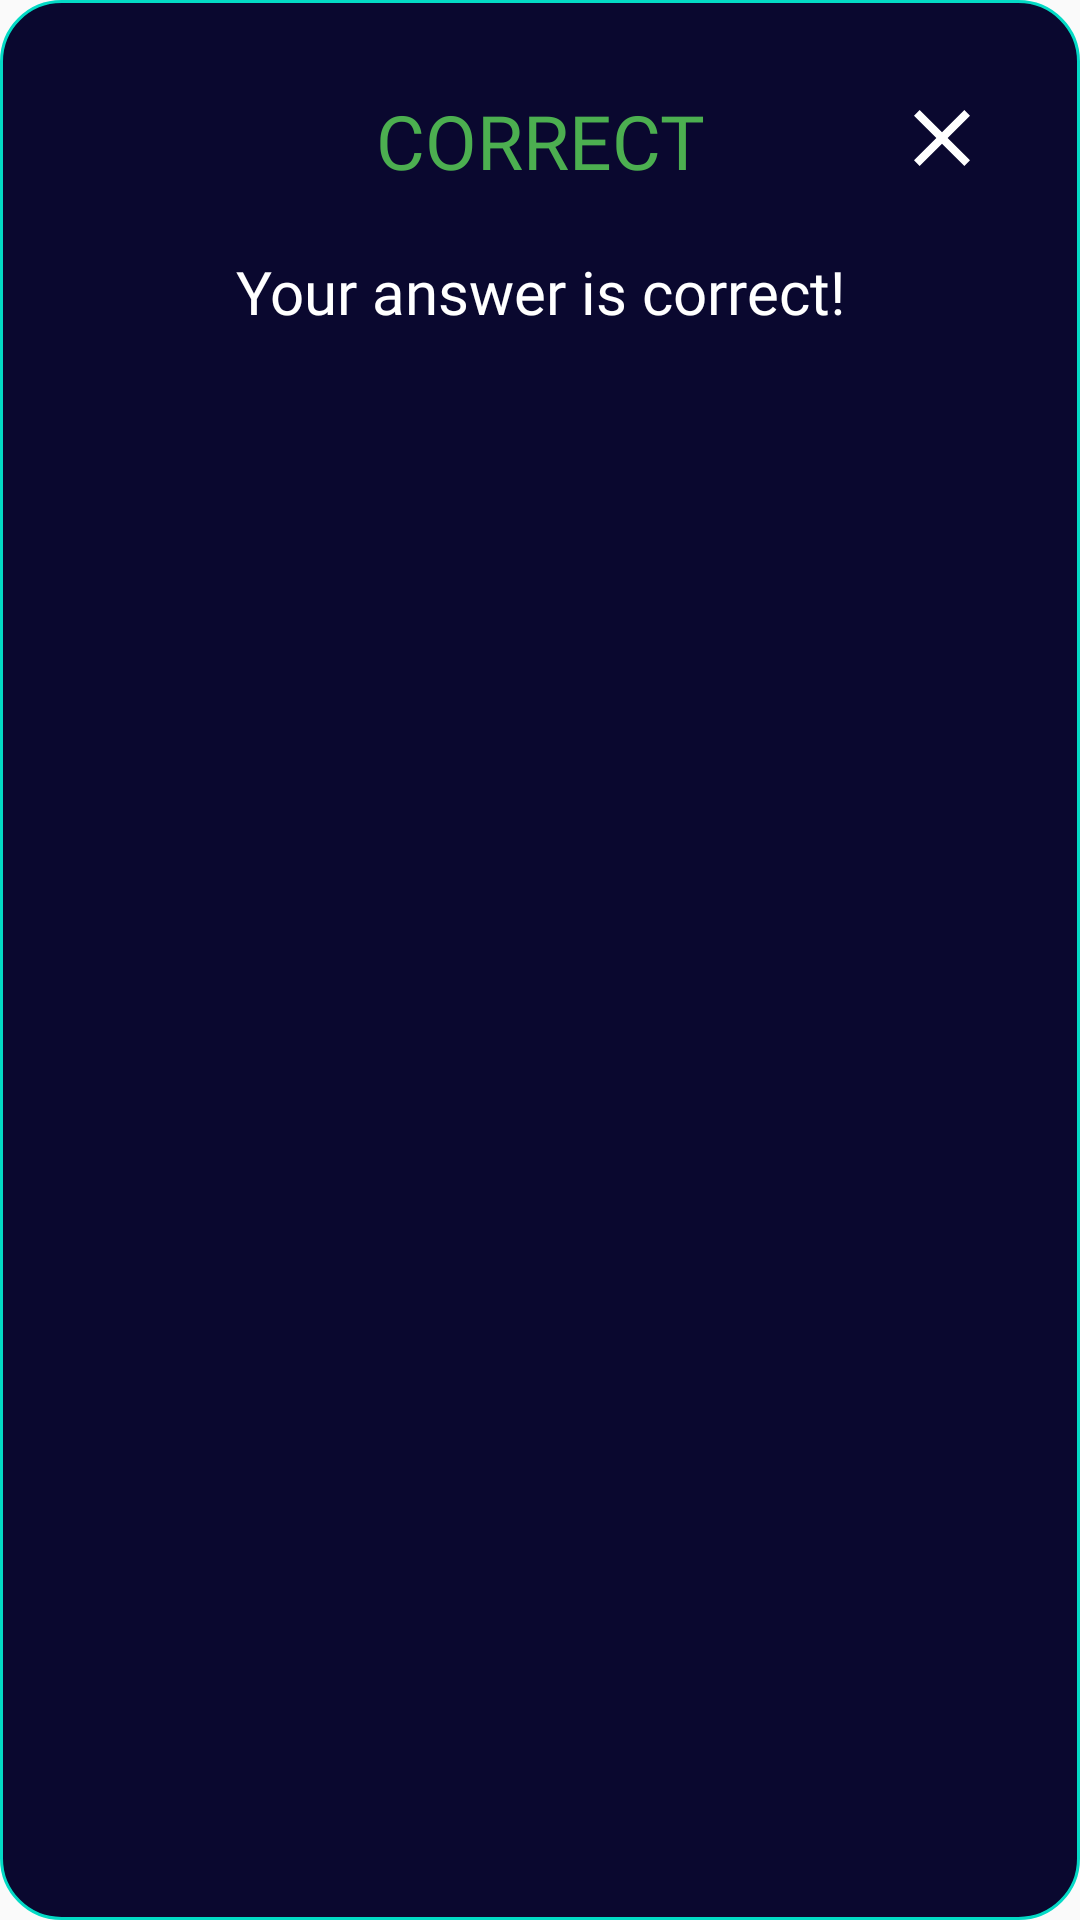

Icons on this 1080px x 1920px Android screen, each with its box as detection(x1, y1, x2, y2):
clear: detection(914, 110, 970, 166)
